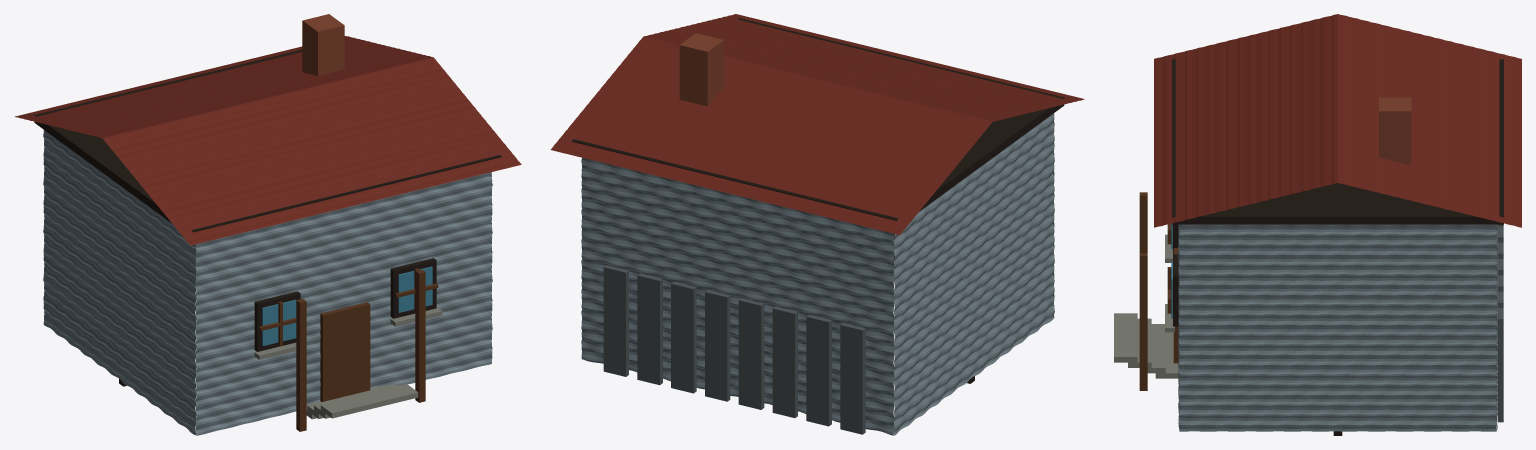
The model's file is harbor_dock_office.obj.
3 views of the same model, side by side, from view 1: azimuth 30°, elevation 25°; view 2: azimuth 150°, elevation 25°; view 3: azimuth 270°, elevation 25° (orthographic). The views are drawn at different scales.
Visible parts, largest first — view 1: harbor_dock_office; view 2: harbor_dock_office; view 3: harbor_dock_office.
Boxes of the visible parts, <box> form: harbor_dock_office: <box>15,14,521,435</box>; harbor_dock_office: <box>550,14,1084,435</box>; harbor_dock_office: <box>1114,14,1521,435</box>.
Size of the model in its own units: 8.06 by 6.66 by 8.23.
